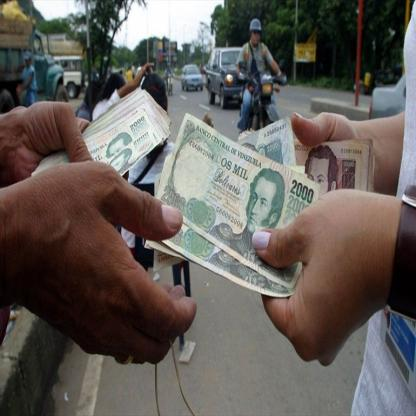billete: (143, 114, 320, 296), (29, 86, 173, 177), (294, 134, 376, 195)
